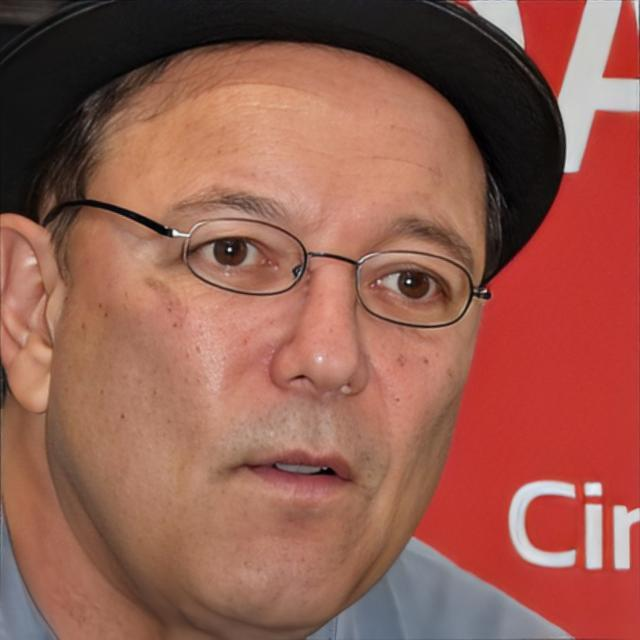surprise: (69, 36, 492, 630)
